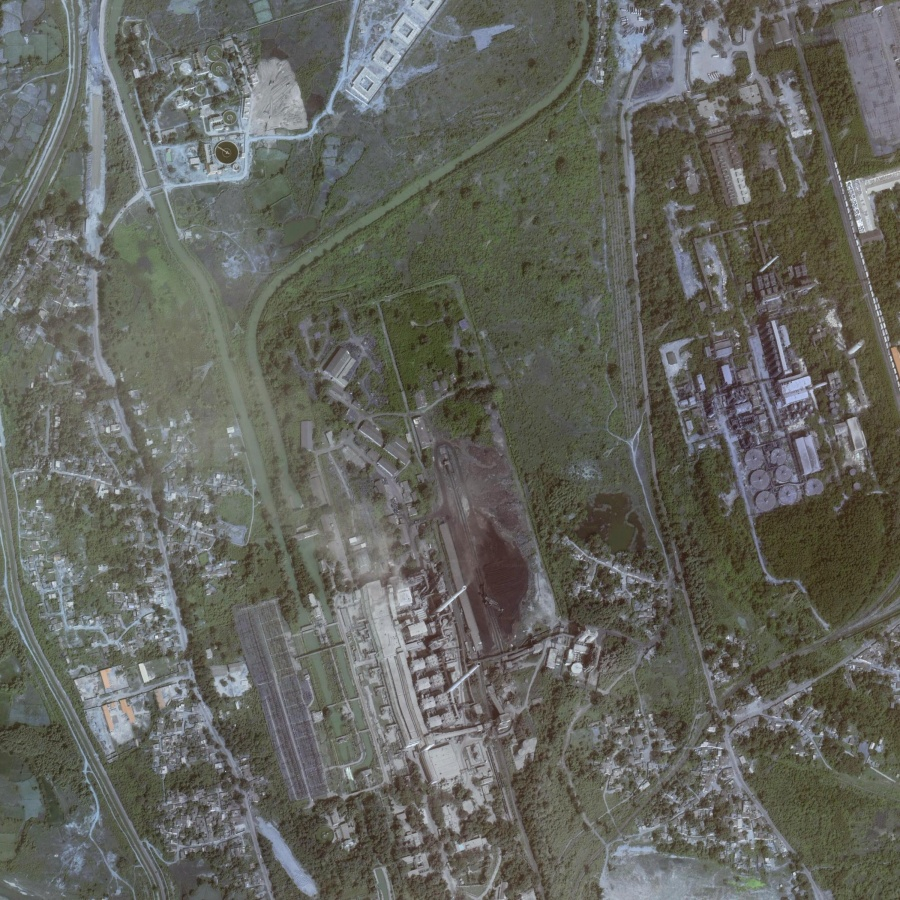PowerPlant: (342, 430, 539, 728)
